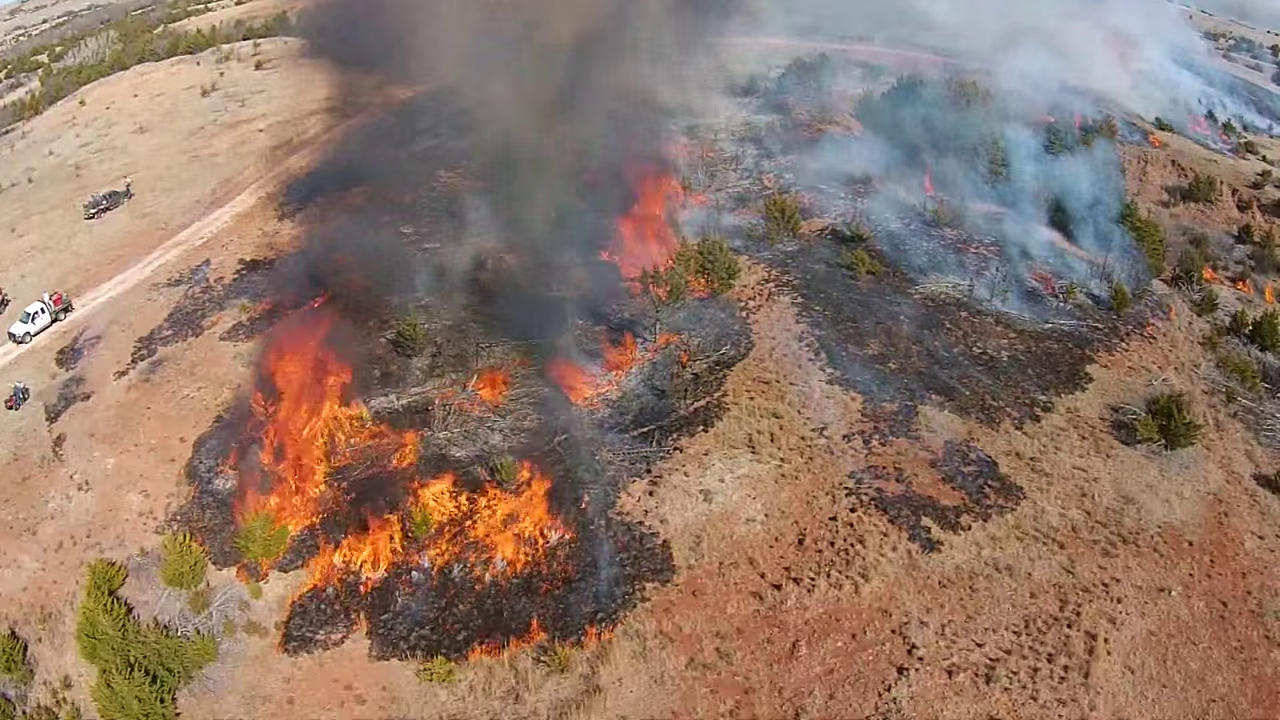forest_fire: (240, 326, 420, 532), (307, 460, 573, 590), (602, 175, 683, 282), (547, 332, 643, 405), (467, 619, 546, 655), (466, 367, 512, 408)
